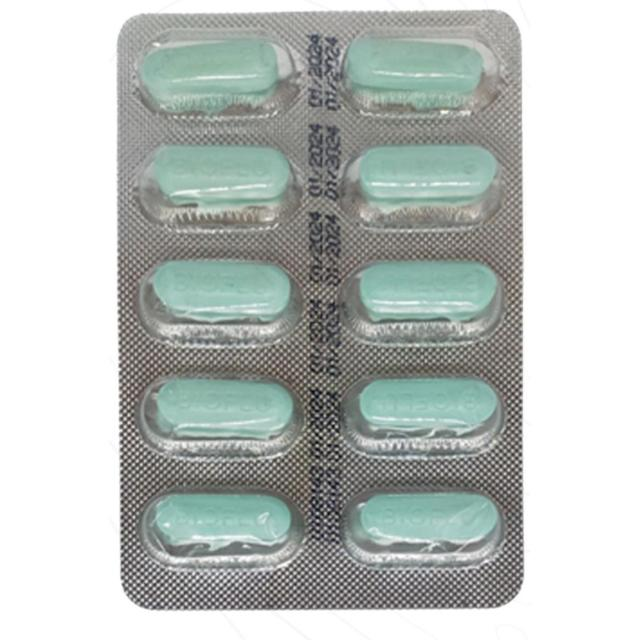blister: (114, 9, 528, 618)
